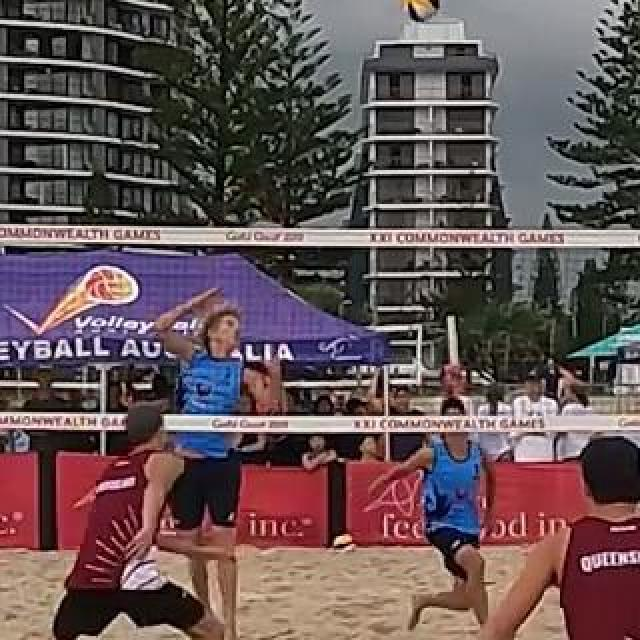volleyball: (400, 0, 440, 22), (334, 533, 356, 557)
